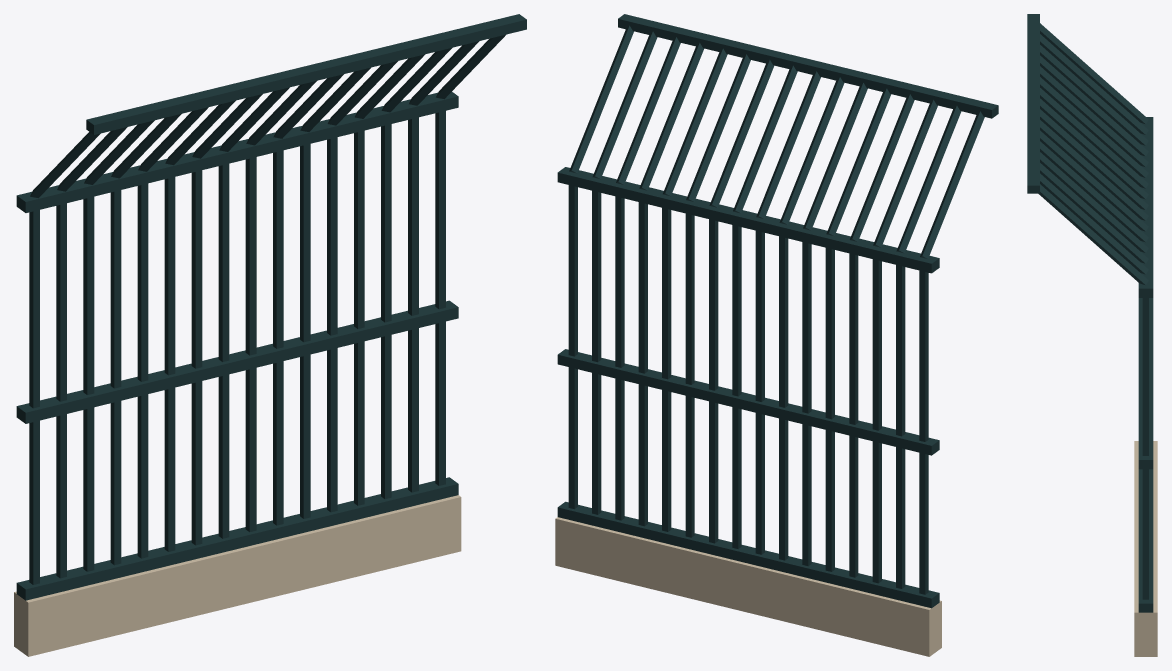
The model's file is bars_panel_L.fbx.
3 views of the same model, side by side, from view 1: azimuth 30°, elevation 25°; view 2: azimuth 150°, elevation 25°; view 3: azimuth 270°, elevation 25° (orthographic). The views are drawn at different scales.
Parts seen in each view (by area): view 1: bars_panel_L; view 2: bars_panel_L; view 3: bars_panel_L.
Boxes of the visible parts, x1,y1,x2,y2 form: bars_panel_L: (14,14,526,656); bars_panel_L: (555,14,998,656); bars_panel_L: (1027,14,1157,656).
Size of the model in its own units: 2.5 by 3.2 by 0.8.
